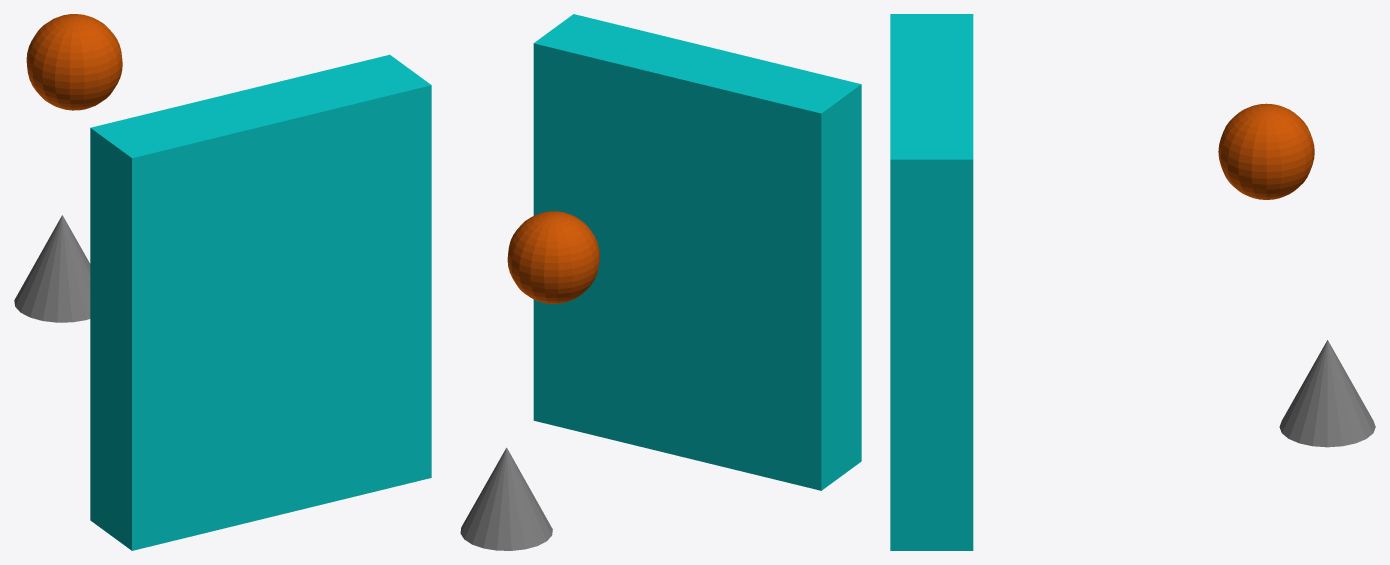
File: basic_shapes.dae
3 views of the same model, side by side, from view 1: azimuth 30°, elevation 25°; view 2: azimuth 150°, elevation 25°; view 3: azimuth 270°, elevation 25° (orthographic). The views are drawn at different scales.
Parts seen in each view (by area): view 1: pCube1, pSphere1, pCone1; view 2: pCube1, pSphere1, pCone1; view 3: pCube1, pSphere1, pCone1.
Boxes of the visible parts, bbox=[...] form: pCube1: bbox=[90, 54, 431, 550]; pSphere1: bbox=[26, 14, 122, 110]; pCone1: bbox=[14, 215, 90, 322]; pCube1: bbox=[533, 14, 861, 490]; pSphere1: bbox=[507, 211, 599, 303]; pCone1: bbox=[460, 447, 552, 550]; pCube1: bbox=[890, 14, 973, 550]; pSphere1: bbox=[1218, 103, 1314, 199]; pCone1: bbox=[1279, 340, 1375, 447].
Size of what is drawn, in the model's own units: 7.15 by 8.96 by 10.08.
